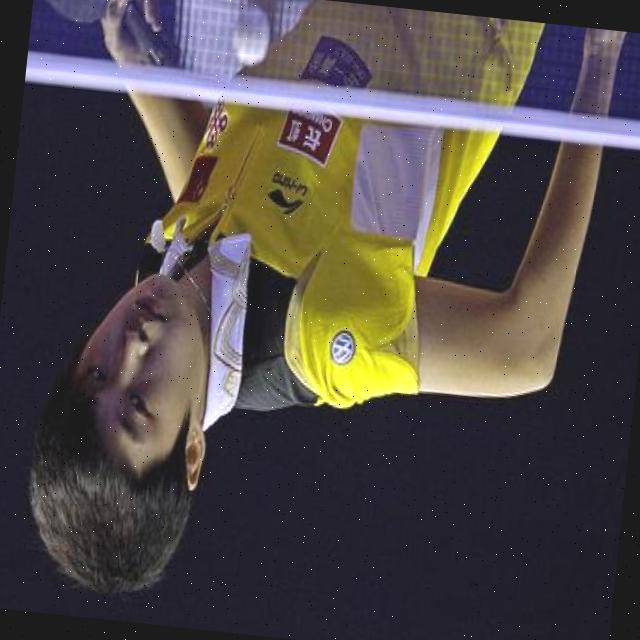ping-pong-ball: (230, 4, 272, 68)
